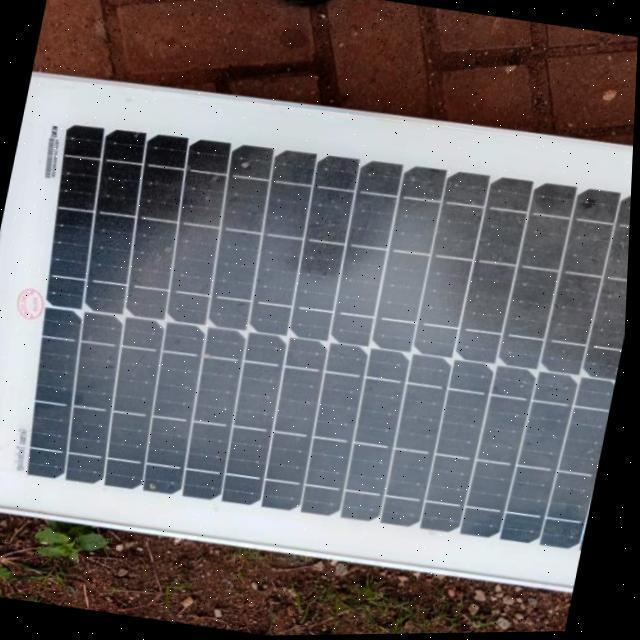Anomaly Solar Panel: (9, 91, 636, 588)
Surface Contaminant: (12, 97, 634, 583)
